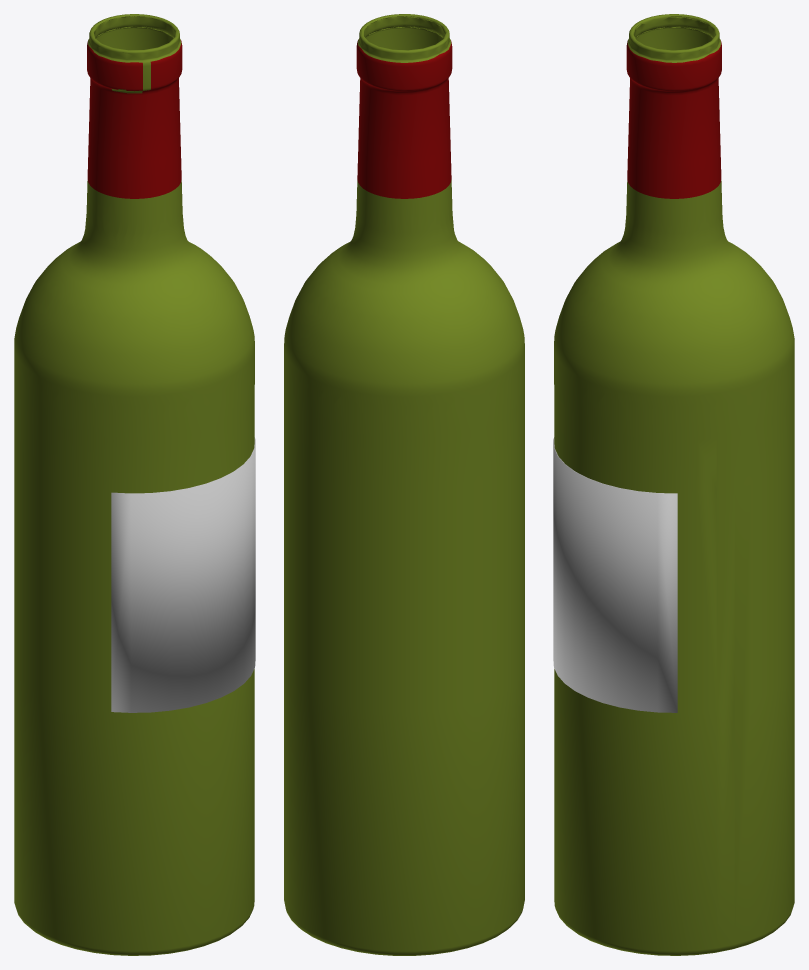
Rendered from wineBouteille_centered.dae.
The picture shows the model from 3 angles, left to right: view 1: azimuth 30°, elevation 25°; view 2: azimuth 150°, elevation 25°; view 3: azimuth 270°, elevation 25°; orthographic projection.
Visible parts, largest first — view 1: Group2; view 2: Group2; view 3: Group2.
Part boxes in pixels (bbox=[...]): Group2: bbox=[14, 14, 255, 955]; Group2: bbox=[284, 14, 524, 955]; Group2: bbox=[553, 14, 794, 955].
Bounding box in the file's own units: 0.0745 × 0.0745 × 0.2982.
